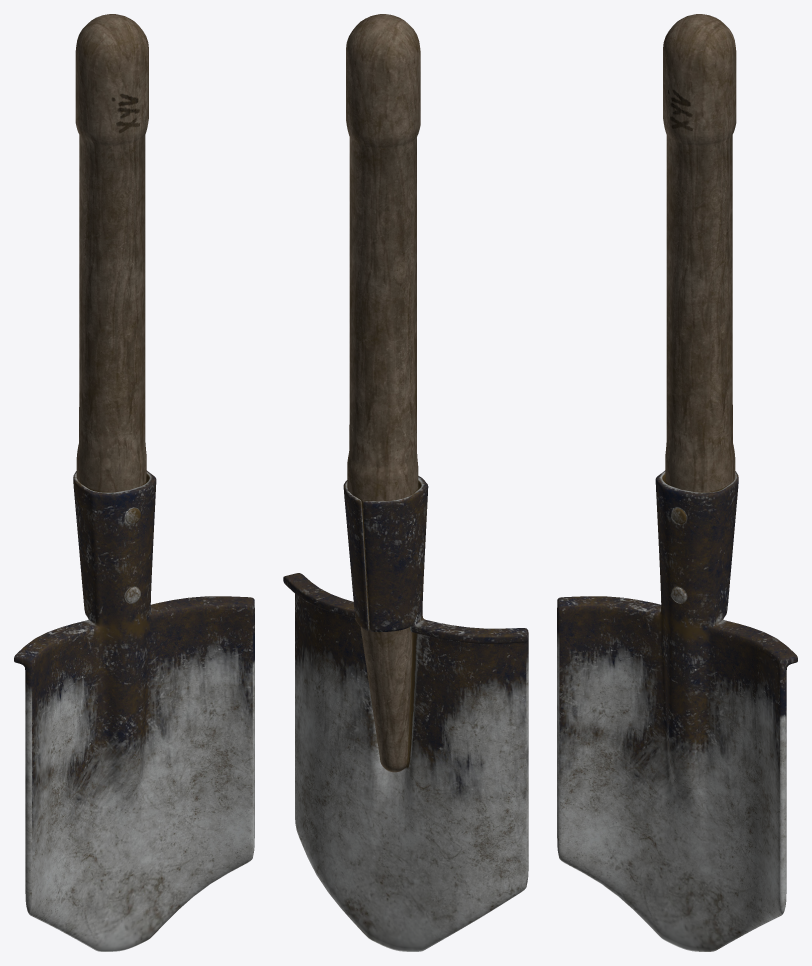
Rendered from shovel_0.glb.
The picture shows the model from 3 angles, left to right: view 1: azimuth 30°, elevation 25°; view 2: azimuth 150°, elevation 25°; view 3: azimuth 330°, elevation 25°; orthographic projection.
Visible parts, largest first — view 1: f5252fad68bd4060bac91e89d9661faa; view 2: f5252fad68bd4060bac91e89d9661faa; view 3: f5252fad68bd4060bac91e89d9661faa.
Boxes of the visible parts, <box> form: f5252fad68bd4060bac91e89d9661faa: <box>14,14,254,951</box>; f5252fad68bd4060bac91e89d9661faa: <box>283,14,528,951</box>; f5252fad68bd4060bac91e89d9661faa: <box>557,14,797,951</box>.
Size of the model in its own units: 0.2719 by 1 by 0.1006.
1 material, 1 textured.
